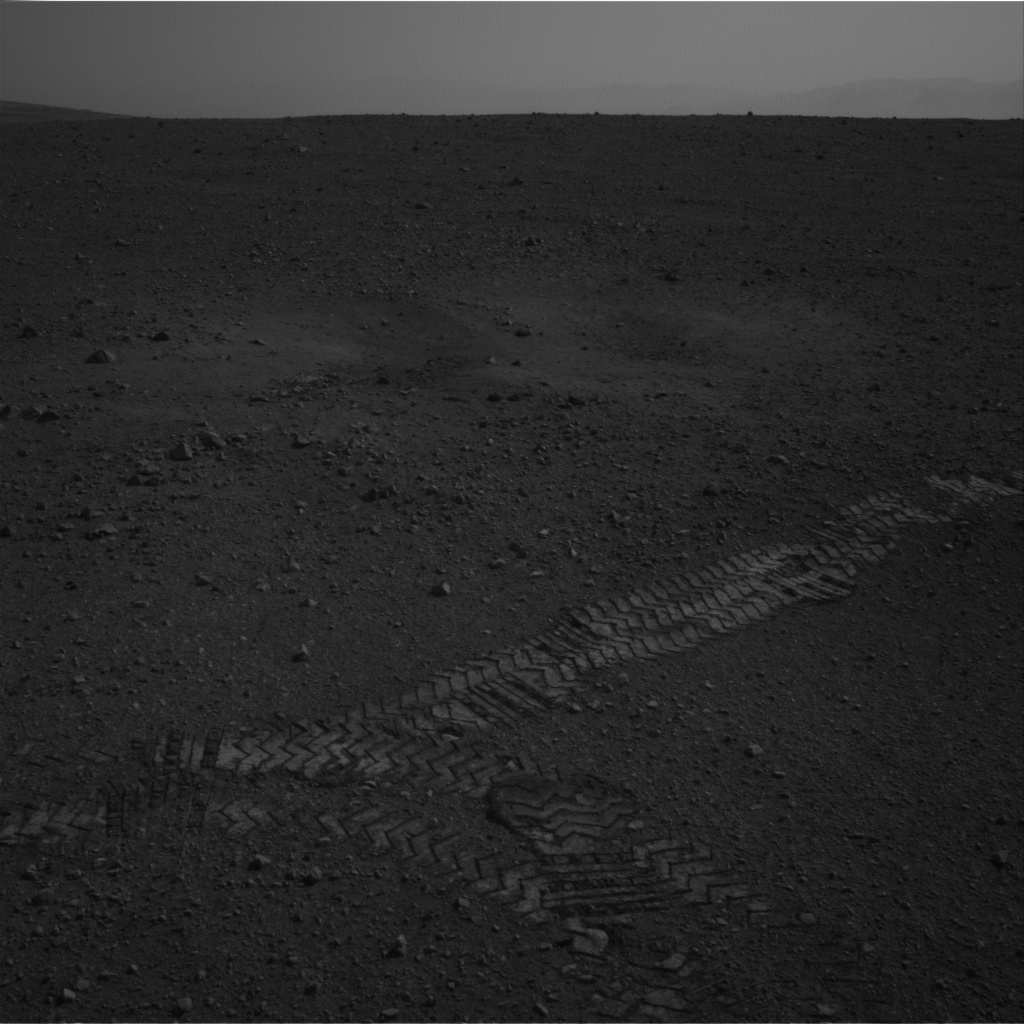soil: (7, 131, 1018, 1019)
